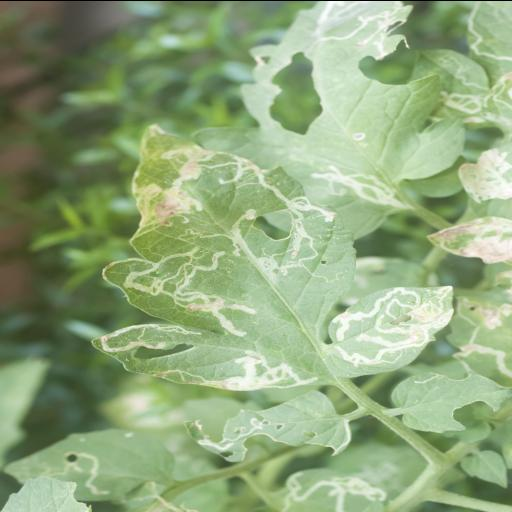disease_tomato: (87, 120, 457, 390)
